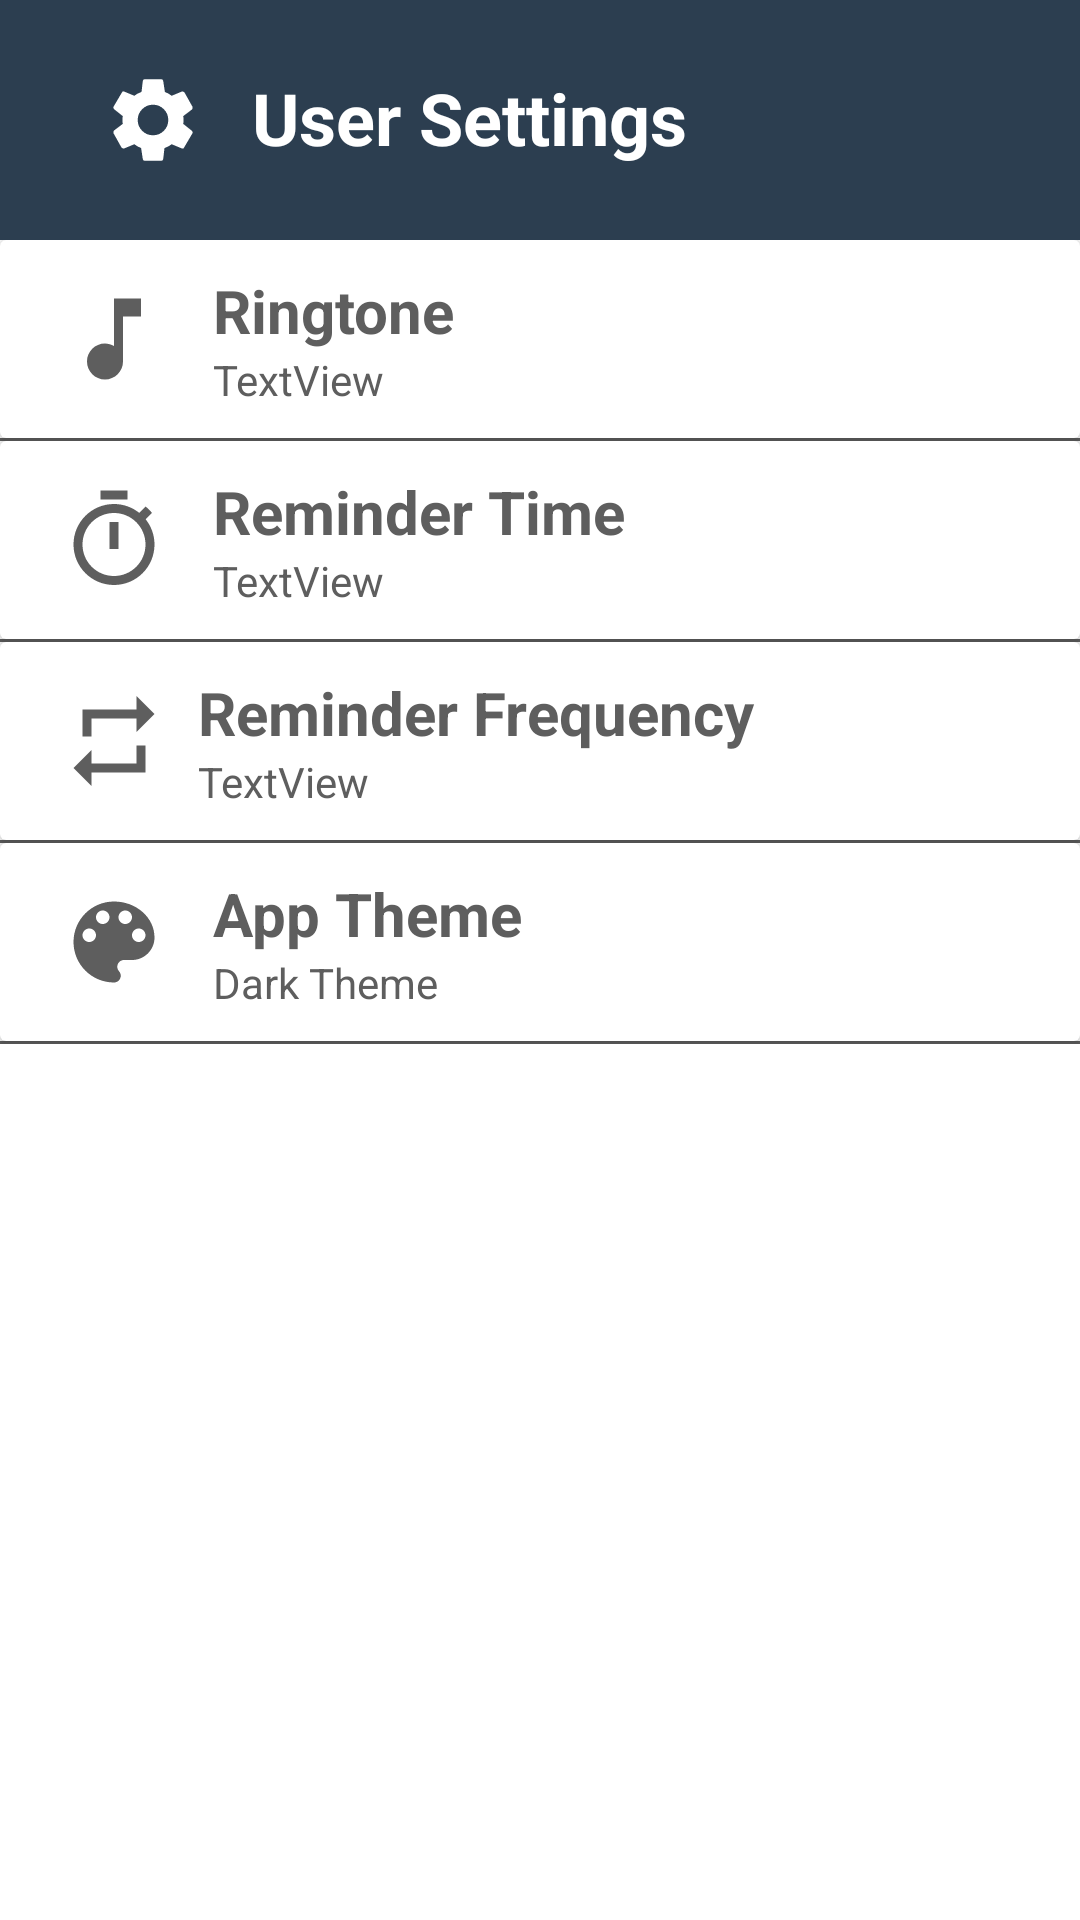

Screen size 1080w x 1920h. Icon name, then its center in pixels as (x,y):
music note: (114,339)
palette: (114,942)
repeat: (114,741)
timer: (114,537)
